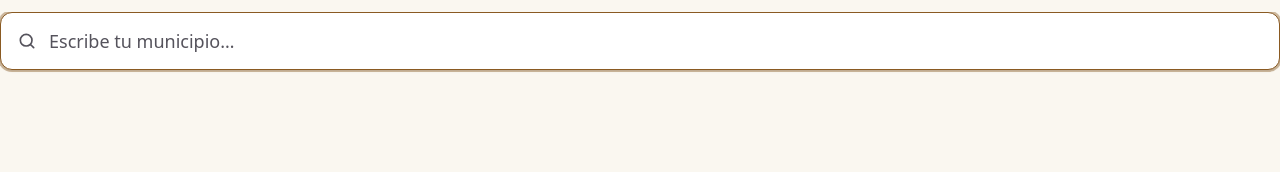
Test: MunicipalitySearch › shows only the spanish name when searching the catalan alias
Type "alacant" into the dropdown at (656, 41), box top-left (49, 13), bottom-right (1263, 69)
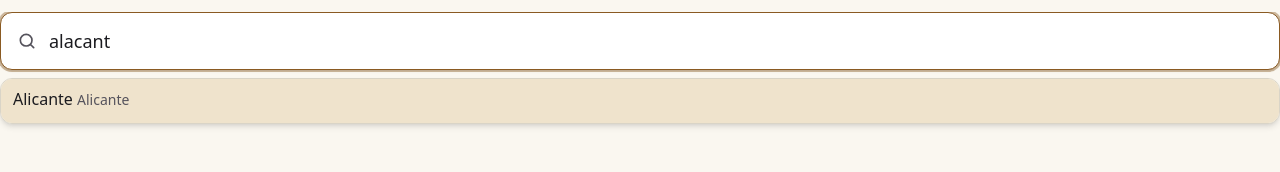
Expected: the option does not show "Alacant", top-left (1, 79), bottom-right (1279, 123)
Result: the option shows "Alicante" at top-left (1, 79), bottom-right (1279, 123)
